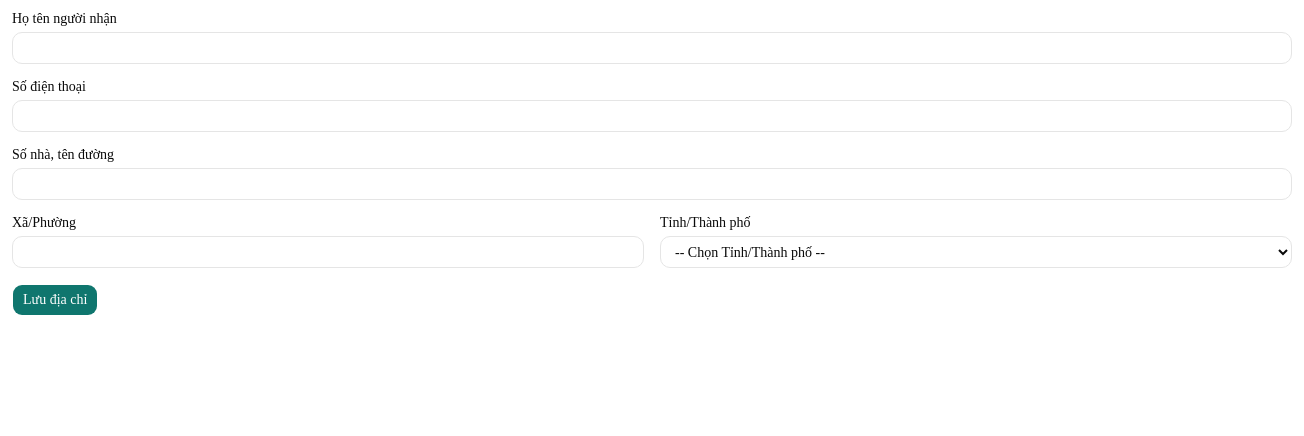
Test case: AddressForm › số điện thoại sai định dạng -> báo lỗi đúng ô, không chặn ô khác
This screenshot has width=1304, height=436.
In the field labelled "Số điện thoại": (652, 116) x1=12 y1=100 x2=1292 y2=132, type "123"
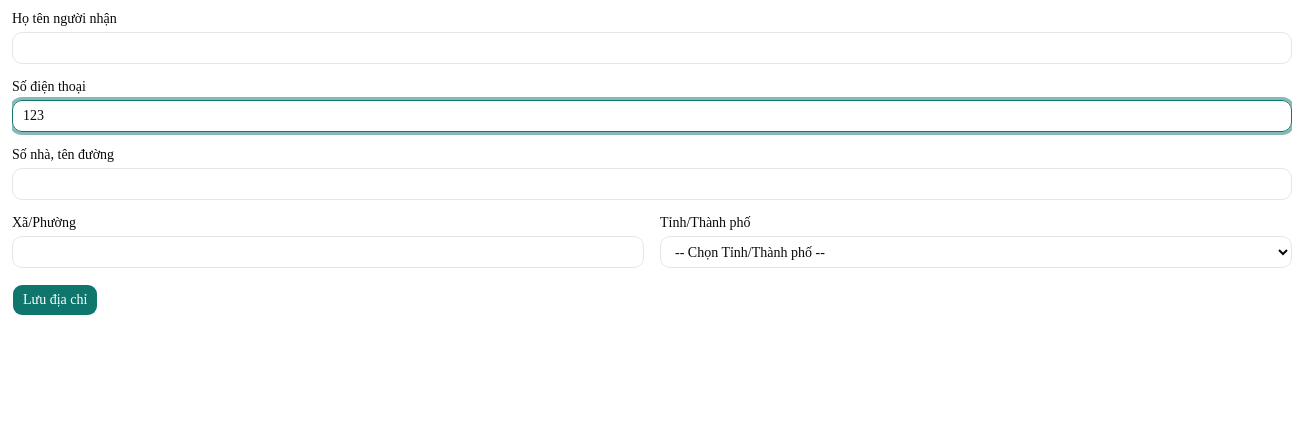
Click the button "Lưu địa chỉ": (55, 300) x1=12 y1=284 x2=98 y2=316
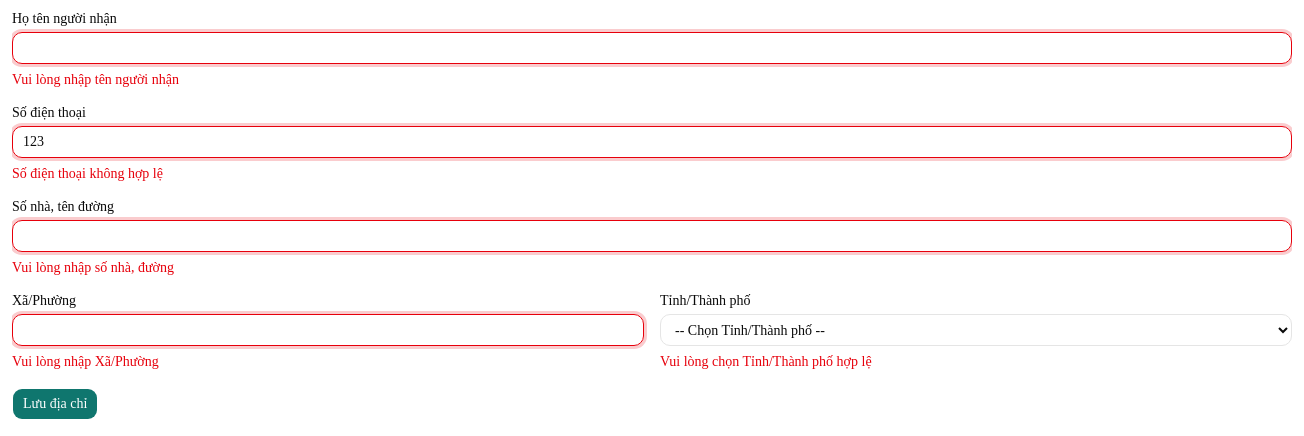
Now the text "Số điện thoại không hợp lệ" is shown, box x1=12 y1=166 x2=163 y2=181
